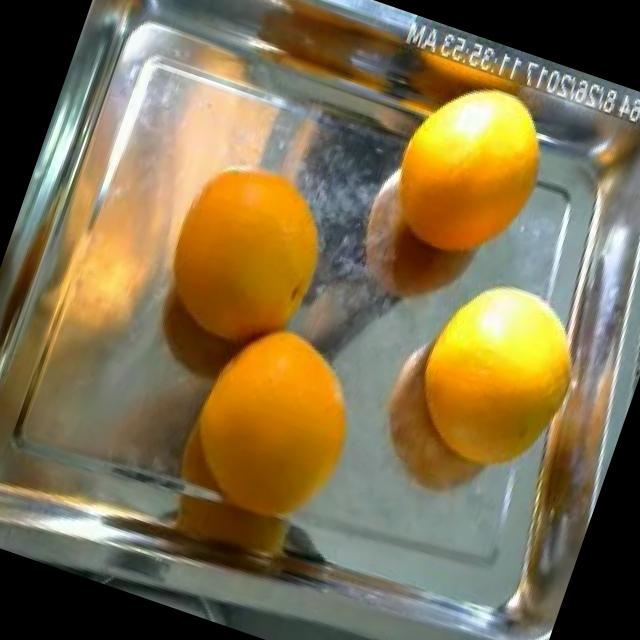Fruit: (366, 51, 581, 298)
